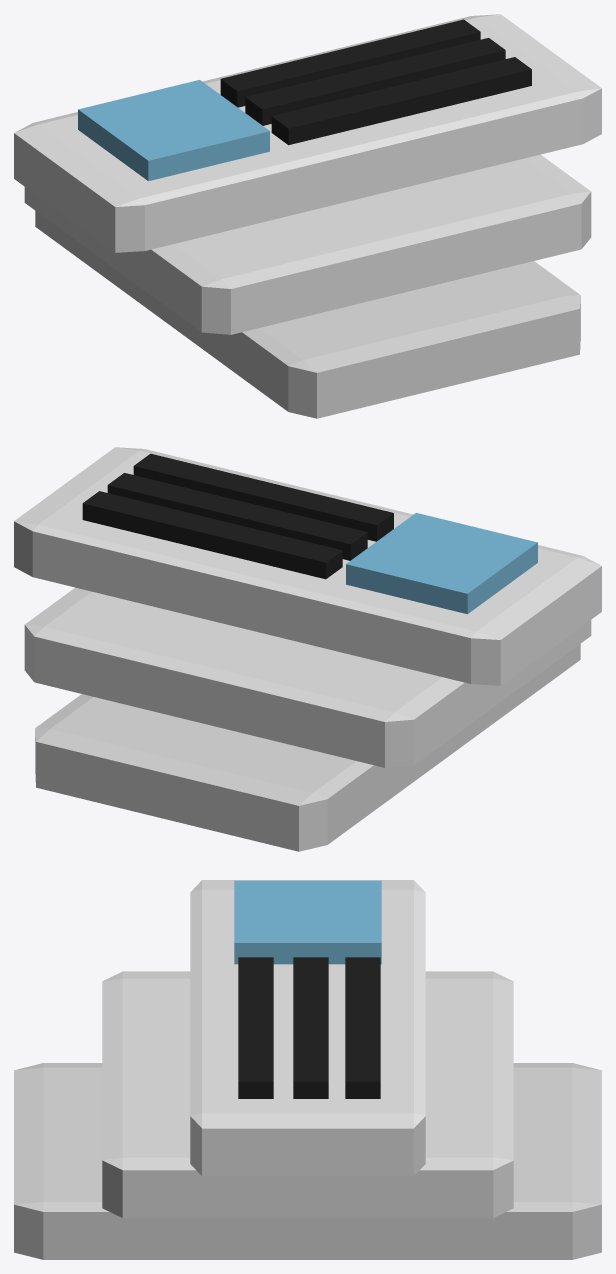
File: iconPosts.gltf
The picture shows the model from 3 angles, top to bottom: view 1: azimuth 30°, elevation 25°; view 2: azimuth 150°, elevation 25°; view 3: azimuth 270°, elevation 25°; orthographic projection. The views are drawn at different scales.
Parts seen in each view (by area): view 1: Cube.002, Cube.001, Cube, Cube.003, Cube.006, Cube.005, Cube.004; view 2: Cube.002, Cube.001, Cube, Cube.003, Cube.004, Cube.006, Cube.005; view 3: Cube.001, Cube, Cube.002, Cube.003, Cube.004, Cube.005, Cube.006.
Part boxes in pixels (<box>): Cube.002: <box>14,14,601,252</box>; Cube.001: <box>24,154,591,334</box>; Cube: <box>35,211,580,418</box>; Cube.003: <box>78,80,269,181</box>; Cube.006: <box>271,57,531,145</box>; Cube.005: <box>245,38,505,125</box>; Cube.004: <box>220,19,480,107</box>; Cube.002: <box>14,447,601,685</box>; Cube.001: <box>24,587,591,767</box>; Cube: <box>35,644,580,851</box>; Cube.003: <box>346,513,537,614</box>; Cube.004: <box>82,491,342,579</box>; Cube.006: <box>133,453,393,541</box>; Cube.005: <box>107,473,367,560</box>; Cube.001: <box>102,971,513,1218</box>; Cube: <box>14,1063,601,1259</box>; Cube.002: <box>190,880,425,1176</box>; Cube.003: <box>234,880,381,964</box>; Cube.004: <box>345,957,380,1098</box>; Cube.005: <box>293,957,328,1098</box>; Cube.006: <box>238,957,273,1098</box>.
Bounding box in the file's own units: 2 × 0.7802 × 2.
